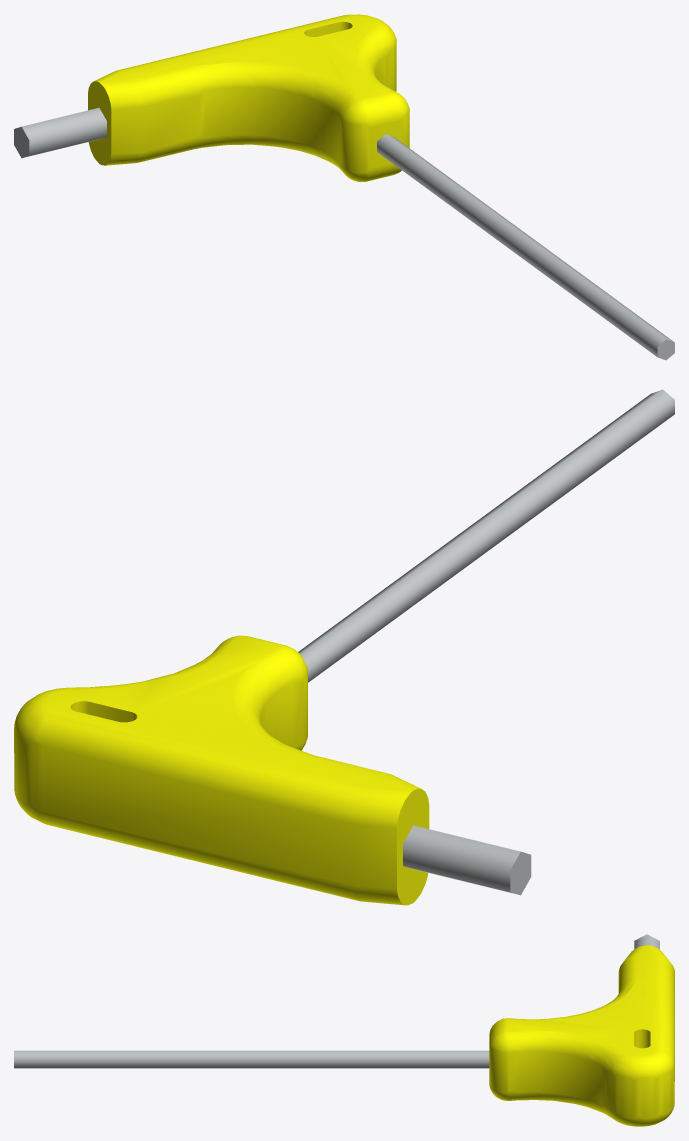
File: 03-Cross_Screwdriver.fbx
The picture shows the model from 3 angles, top to bottom: view 1: azimuth 30°, elevation 25°; view 2: azimuth 150°, elevation 25°; view 3: azimuth 270°, elevation 25°; orthographic projection. The views are drawn at different scales.
Parts seen in each view (by area): view 1: Allen Key - V2_Handle, Allen Key - V2_long arm, Allen Key - V2_short arm; view 2: Allen Key - V2_Handle, Allen Key - V2_long arm, Allen Key - V2_short arm; view 3: Allen Key - V2_Handle, Allen Key - V2_long arm.
Part boxes in pixels (box(x1,y1,x2,y2)): Allen Key - V2_Handle: box(88, 14, 409, 181); Allen Key - V2_long arm: box(377, 134, 674, 360); Allen Key - V2_short arm: box(14, 108, 106, 158); Allen Key - V2_Handle: box(14, 635, 429, 905); Allen Key - V2_long arm: box(298, 389, 674, 682); Allen Key - V2_short arm: box(403, 825, 531, 895); Allen Key - V2_Handle: box(489, 945, 674, 1126); Allen Key - V2_long arm: box(14, 1050, 489, 1068).
Bounding box in the file's own units: 20.85 × 4.44 × 38.55.
1 material, 1 textured.
